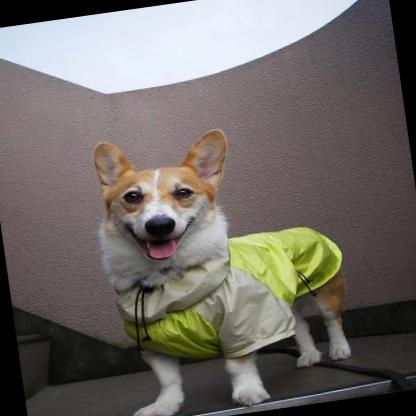Pembroke: (78, 104, 362, 416)
